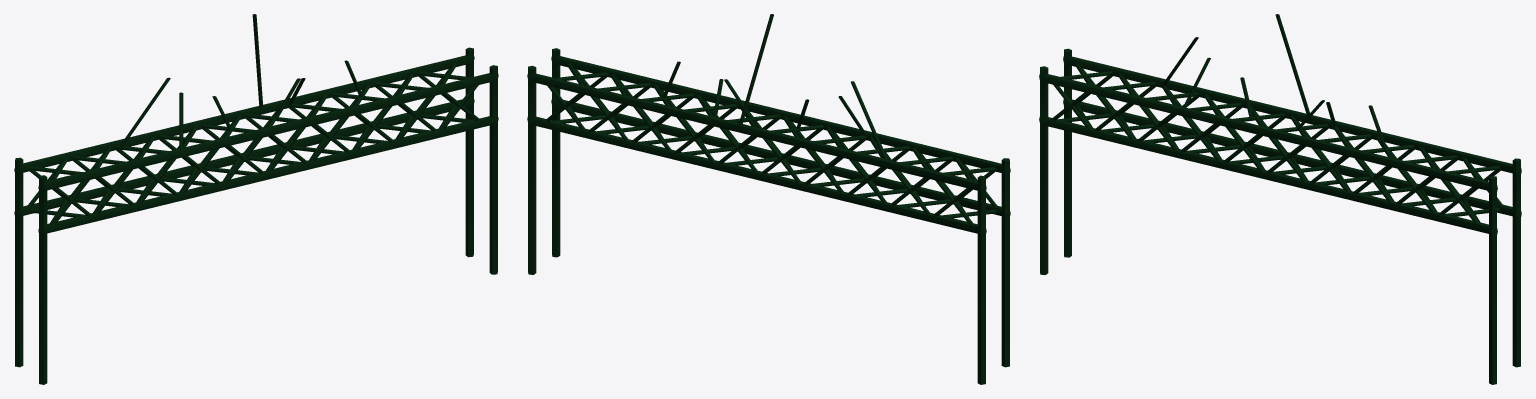
3 views of the same model, side by side, from view 1: azimuth 30°, elevation 25°; view 2: azimuth 150°, elevation 25°; view 3: azimuth 330°, elevation 25° (orthographic).
Parts seen in each view (by area): view 1: SD; view 2: SD; view 3: SD.
Boxes of the visible parts, box(x1,y1,x2,y2) form: SD: box(14, 14, 498, 384); SD: box(527, 14, 1010, 384); SD: box(1039, 14, 1521, 384).
Bounding box in the file's own units: 2383 × 1511 × 265.
